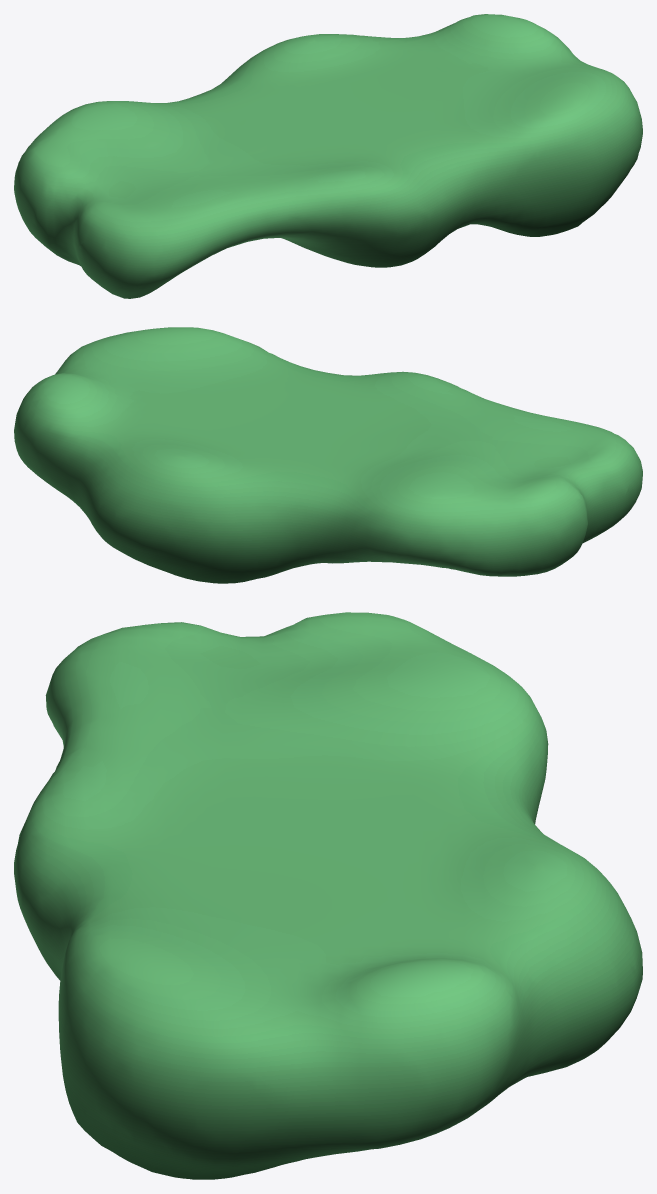
Rendered from LeafPlatform2 G1.fbx.
The picture shows the model from 3 angles, top to bottom: view 1: azimuth 30°, elevation 25°; view 2: azimuth 150°, elevation 25°; view 3: azimuth 270°, elevation 25°; orthographic projection. The views are drawn at different scales.
Visible parts, largest first — view 1: Stump LeafPlatformT G1; view 2: Stump LeafPlatformT G1; view 3: Stump LeafPlatformT G1.
Part boxes in pixels (left/top/right/bottom): Stump LeafPlatformT G1: left=14, top=14, right=642, bottom=298; Stump LeafPlatformT G1: left=14, top=327, right=642, bottom=583; Stump LeafPlatformT G1: left=14, top=612, right=642, bottom=1179.
Bounding box in the file's own units: 4.95 × 3.02 × 1.19.
